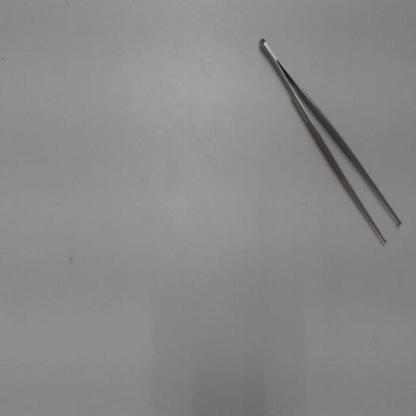Gillies Toothed Dissector: (255, 22, 408, 255)
